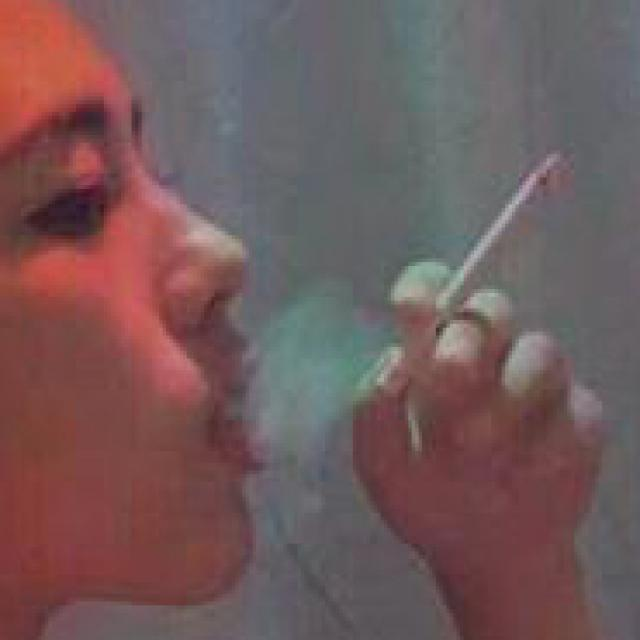smoking: (376, 152, 575, 396)
